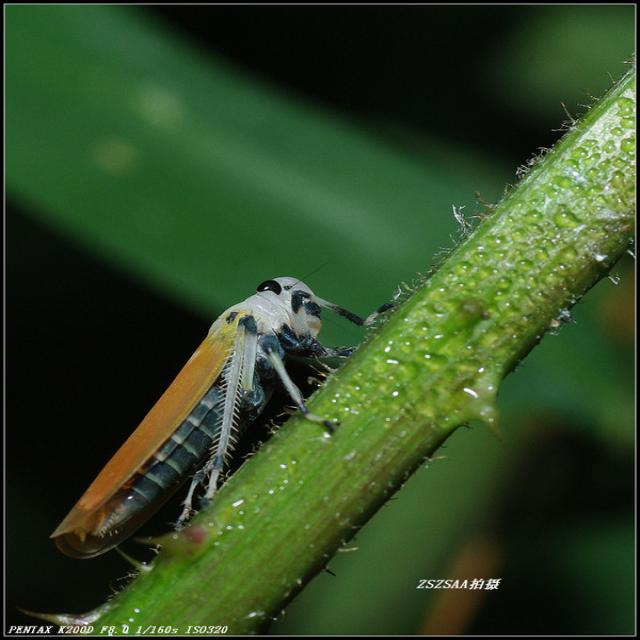Yechan: (47, 267, 352, 574)
